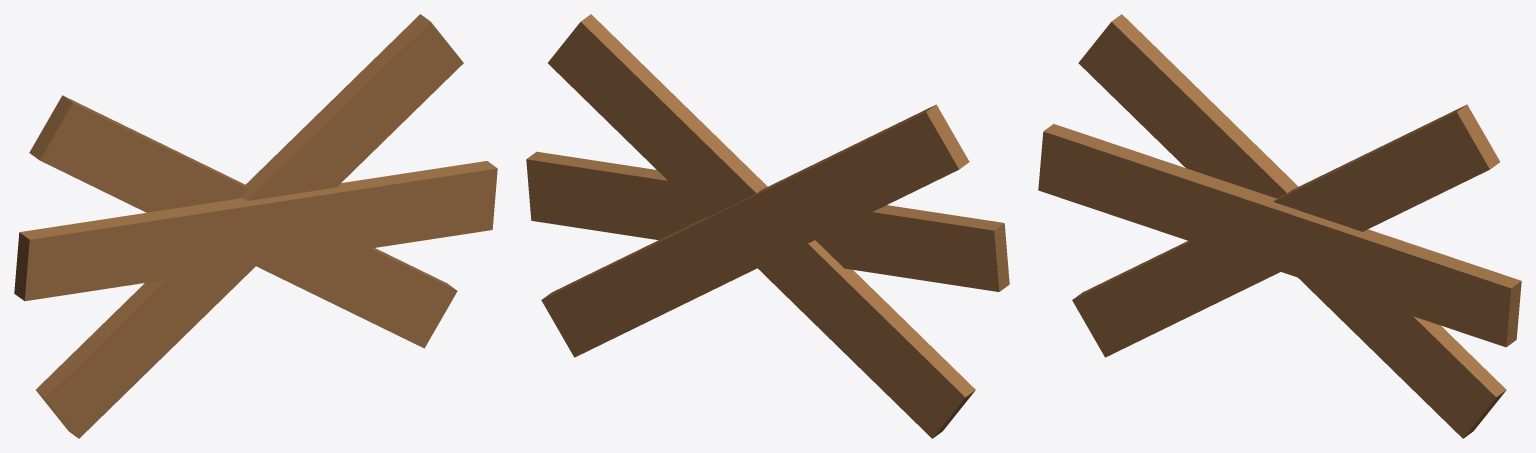
The model's file is broken_boards.gltf.
The picture shows the model from 3 angles, left to right: view 1: azimuth 30°, elevation 25°; view 2: azimuth 150°, elevation 25°; view 3: azimuth 330°, elevation 25°; orthographic projection.
Parts seen in each view (by area): view 1: broken_boards; view 2: broken_boards; view 3: broken_boards.
Boxes of the visible parts, bbox=[...] form: broken_boards: bbox=[14, 14, 497, 438]; broken_boards: bbox=[526, 14, 1009, 438]; broken_boards: bbox=[1038, 14, 1521, 438].
Size of the model in its own units: 1.31 by 0.8767 by 0.11.
